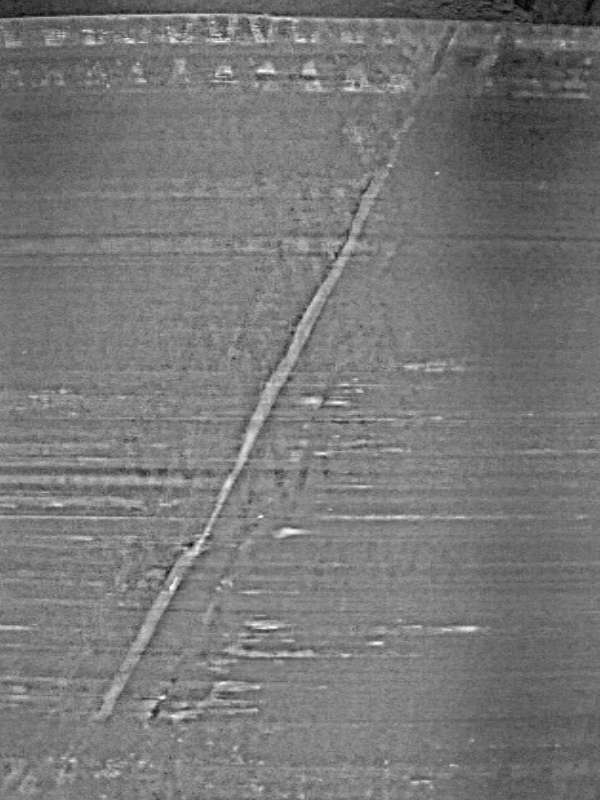splice_vulcanized: (38, 14, 482, 799)
